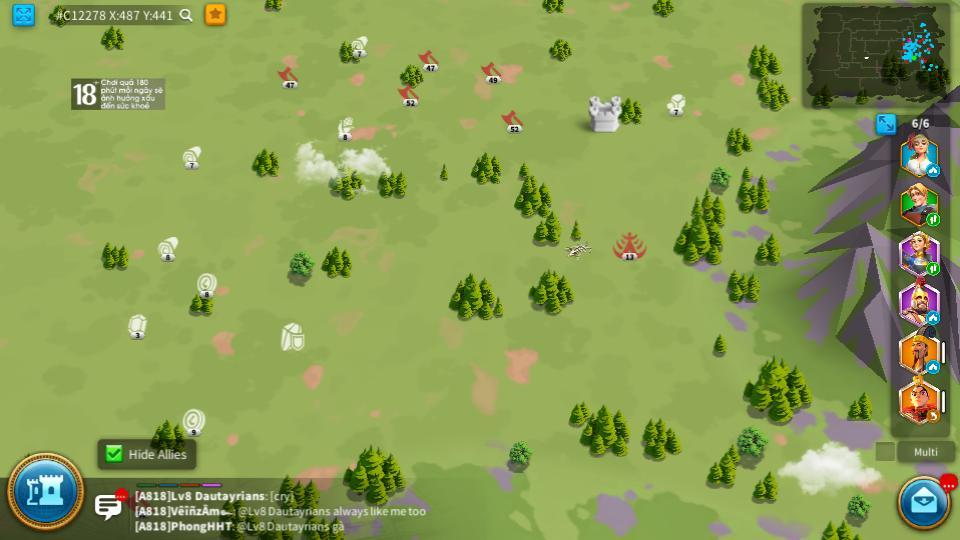gem-z-out: (125, 313, 149, 337)
march_idle: (927, 312, 940, 324), (927, 165, 941, 176), (927, 362, 940, 373)
march_marching: (925, 263, 938, 274), (927, 215, 940, 226)
march_returning: (926, 411, 940, 422)
